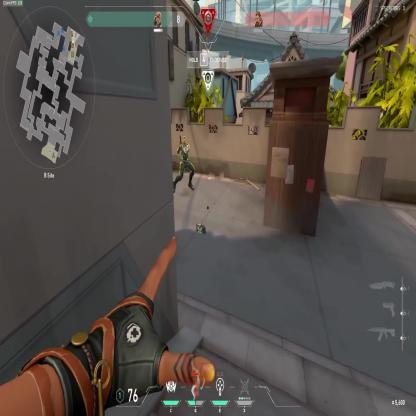enemy: (172, 136, 196, 192)
enemy_head: (182, 136, 186, 145)
